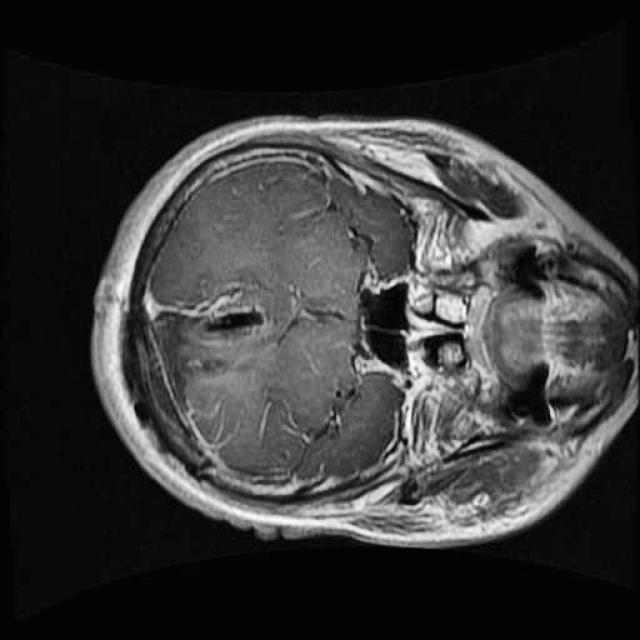Non-Tumor: (139, 294, 272, 428)
